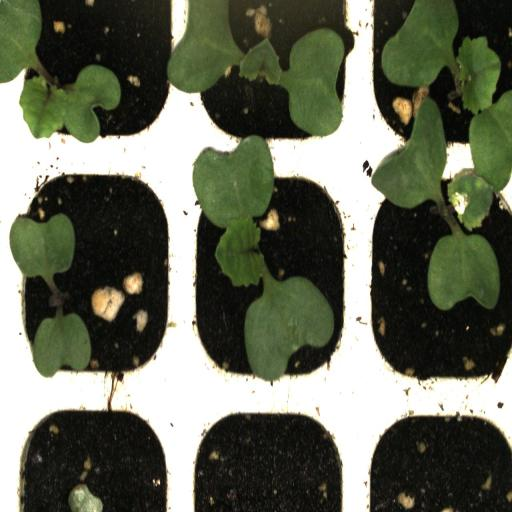Folha: (19, 64, 121, 143), (10, 213, 76, 282), (31, 312, 92, 378), (0, 0, 42, 84)
Germinacao: (6, 160, 185, 386), (186, 157, 358, 392), (358, 151, 512, 396), (3, 1, 185, 160), (185, 0, 358, 161), (359, 1, 512, 164)
